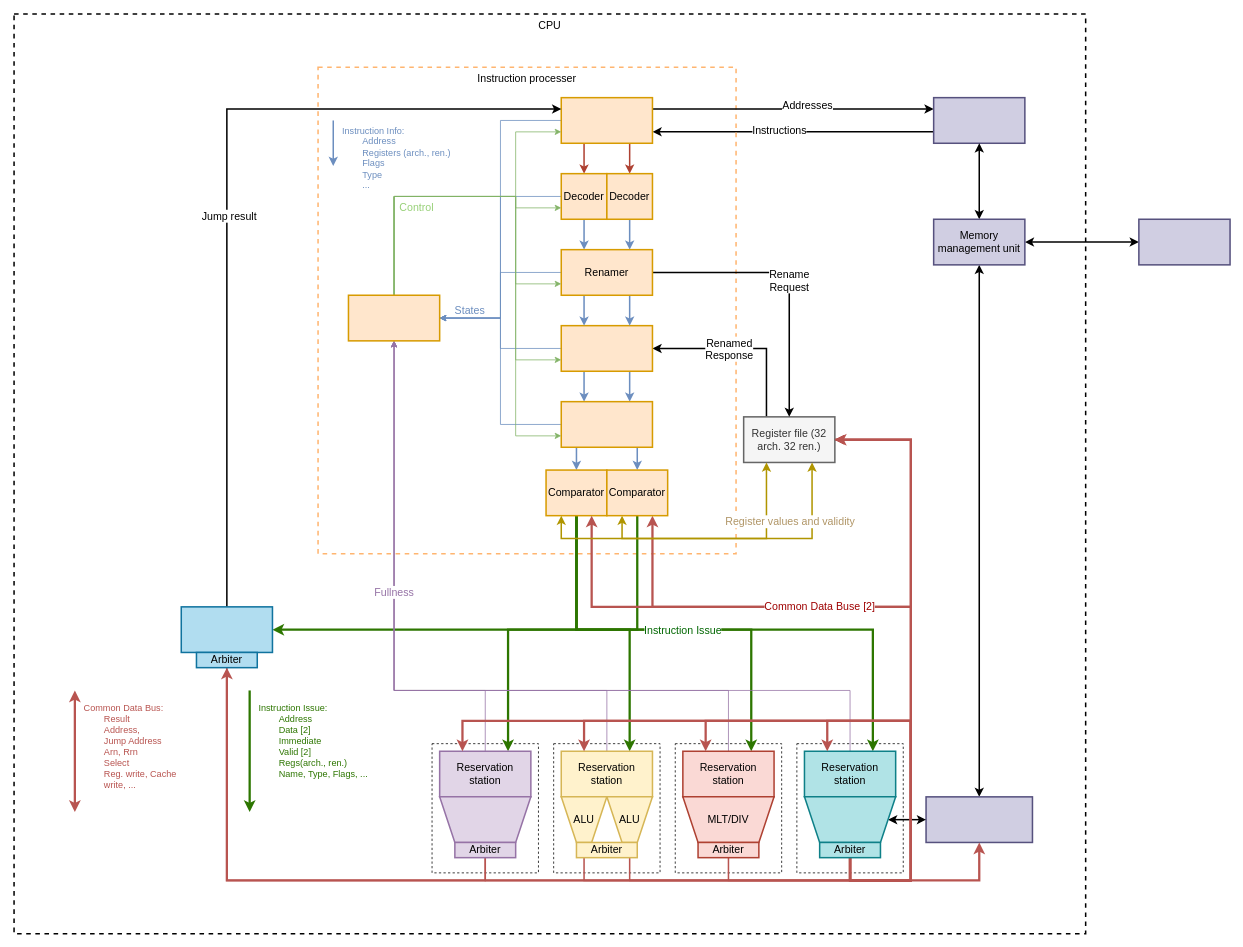
This 1243x947 diagram has some shape labels left out. Each missing label, with the centre of its shape:
"BR" belongs at point (485, 819).
"Data cache + write buffer + store buffer" belongs at point (979, 819).
"Instruction cache" belongs at point (979, 120).
"Instruction control [comb ]" belongs at point (393, 317).
"Issuer" belongs at point (606, 424).
"L/S" belongs at point (849, 819).
"Loader" belongs at point (606, 120).
"RAM" belongs at point (1184, 241).
"Reorder buffer" belongs at point (226, 629).
"Resolver" belongs at point (606, 348).
